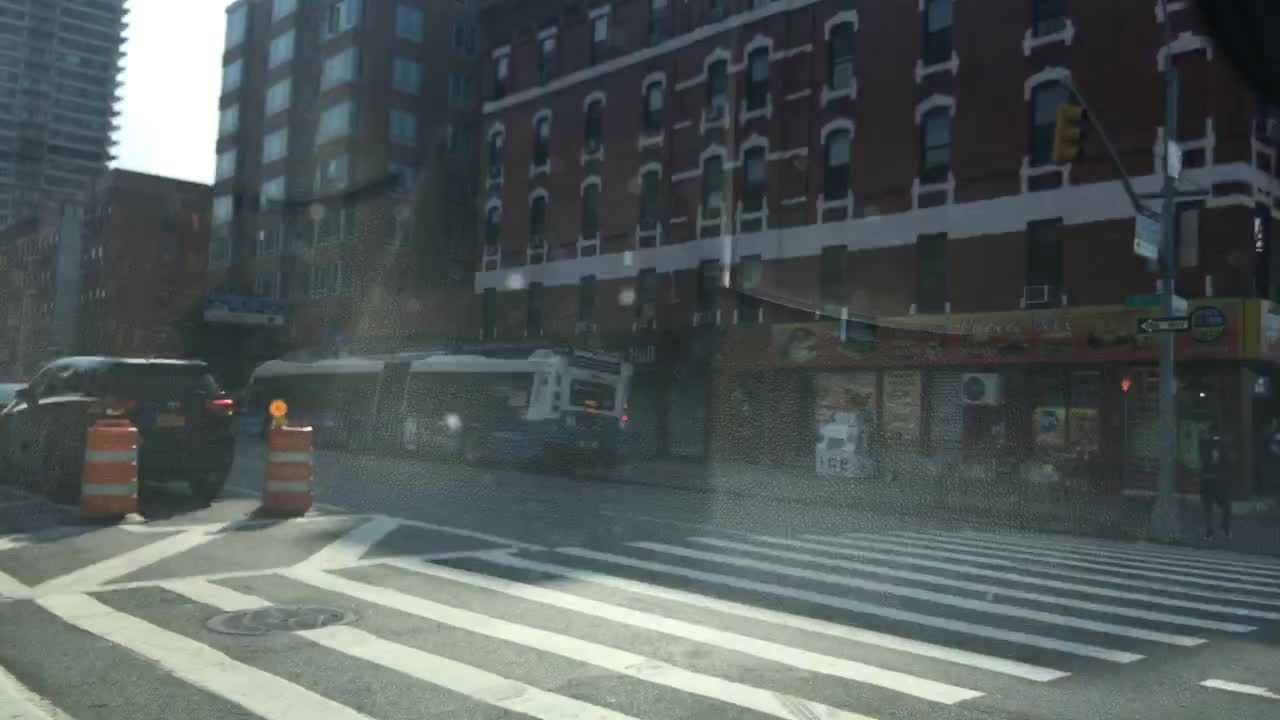bus: (247, 345, 638, 474)
car: (1, 355, 233, 505)
person: (1195, 420, 1235, 542)
traffic light: (1051, 102, 1085, 164)
traffic sign: (1131, 212, 1160, 258), (1140, 316, 1191, 331), (1125, 291, 1161, 306)
